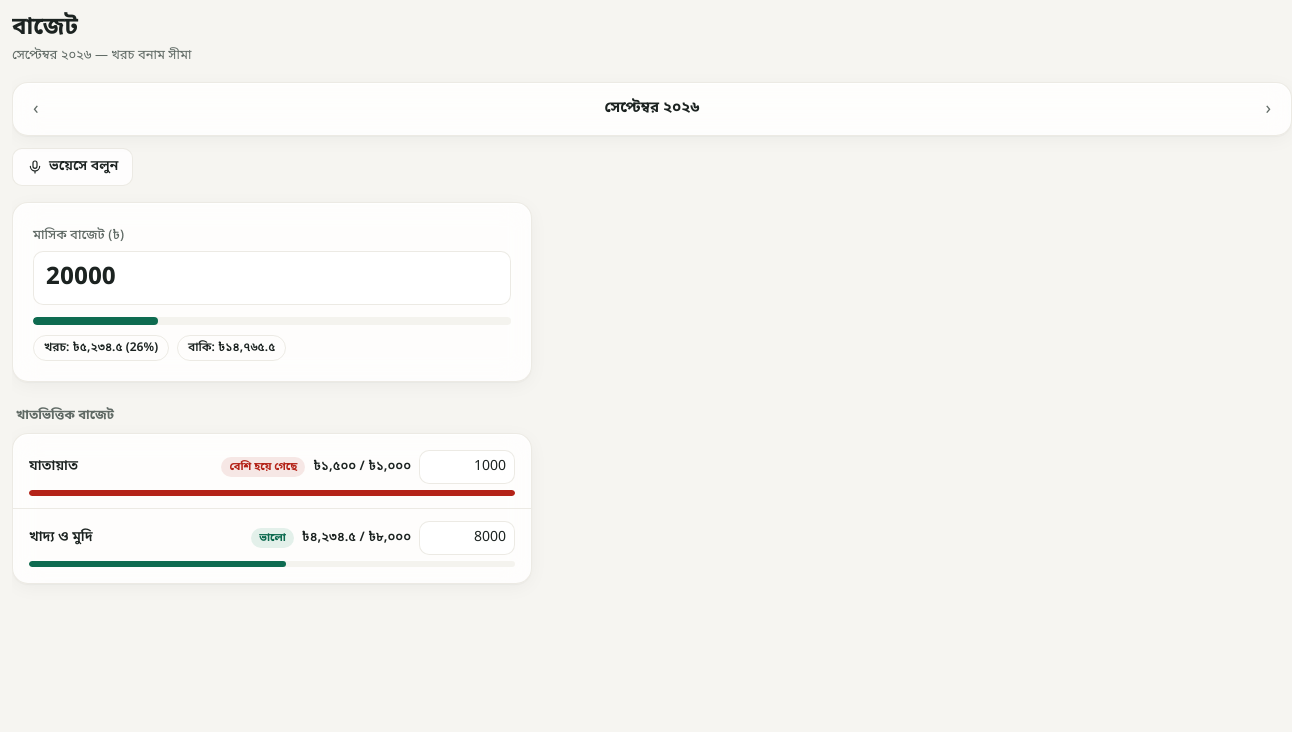
Test case: Budget screen › rejects a non-numeric limit with the local amount error
Replace the text in the field labelled "মাসিক বাজেট (৳)" with "abc". click: x=272, y=278
box: [33,250,511,304]
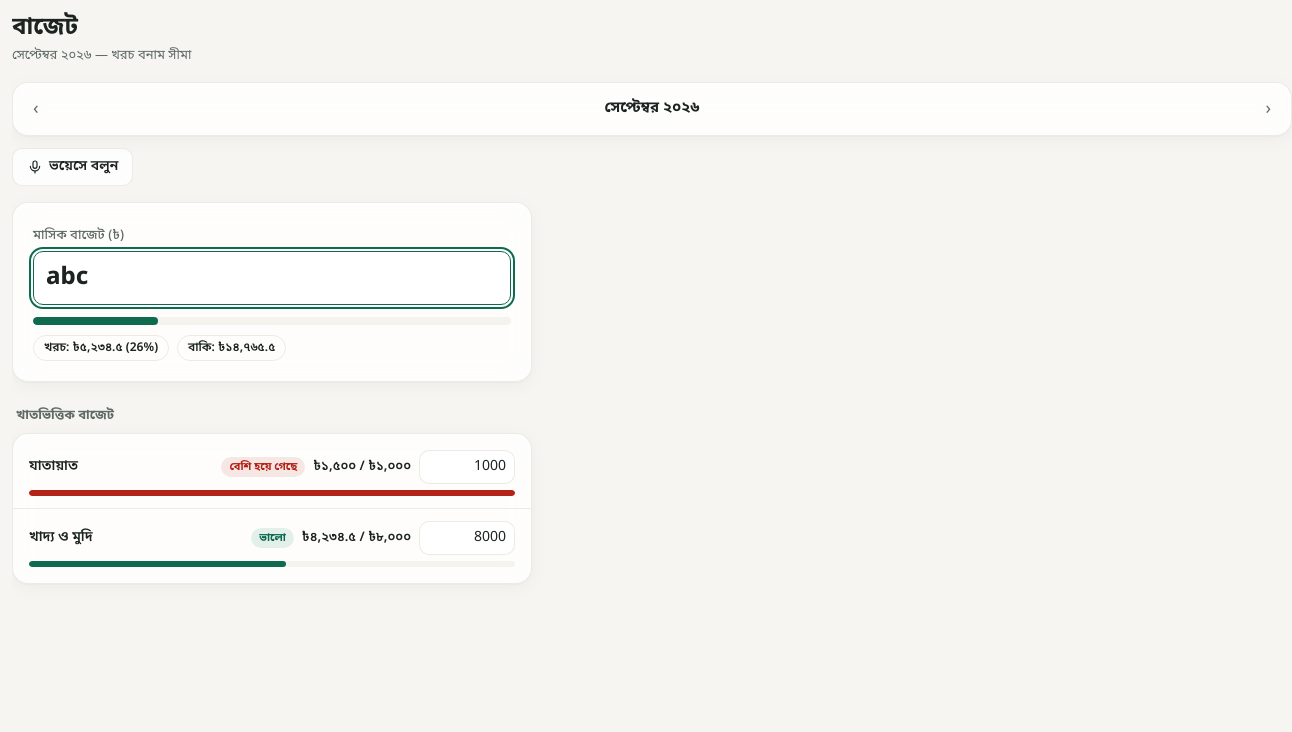
Press Tab
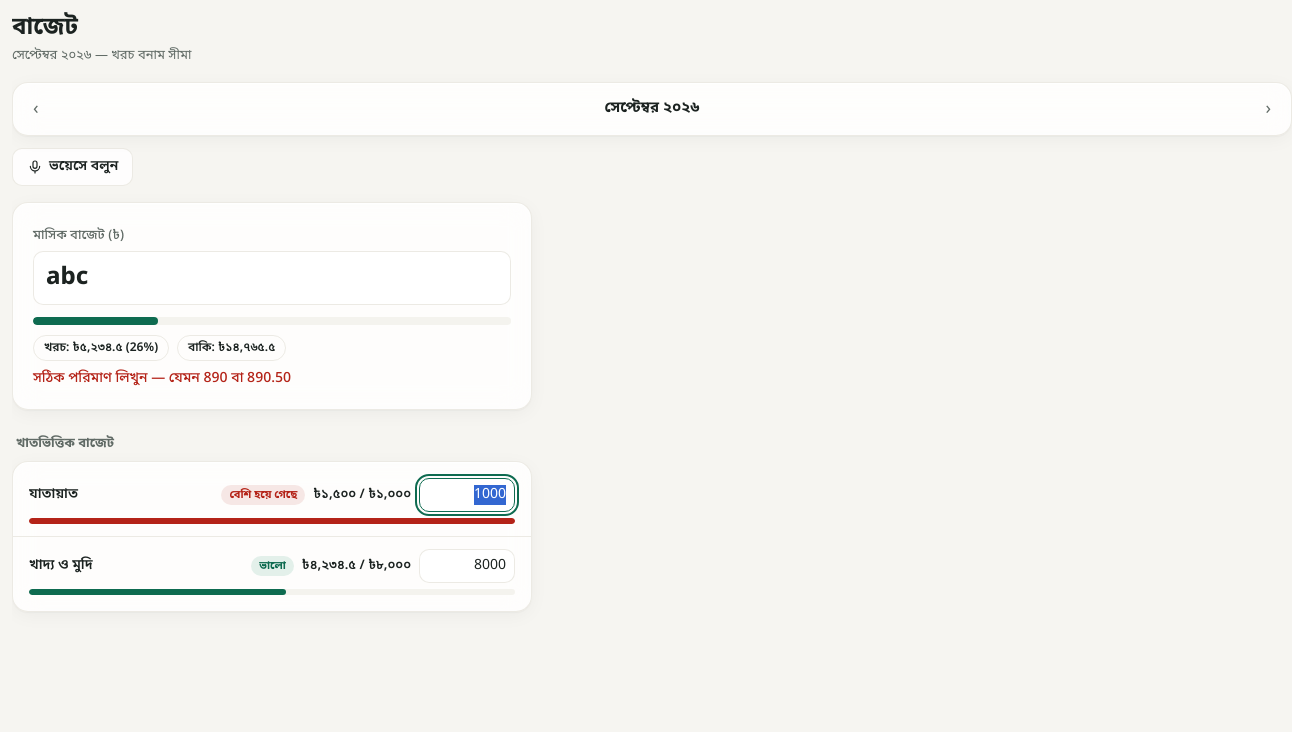
Result: the text "সঠিক পরিমাণ লিখুন — যেমন 890 বা 890.50" is shown at [33,368,291,388]
